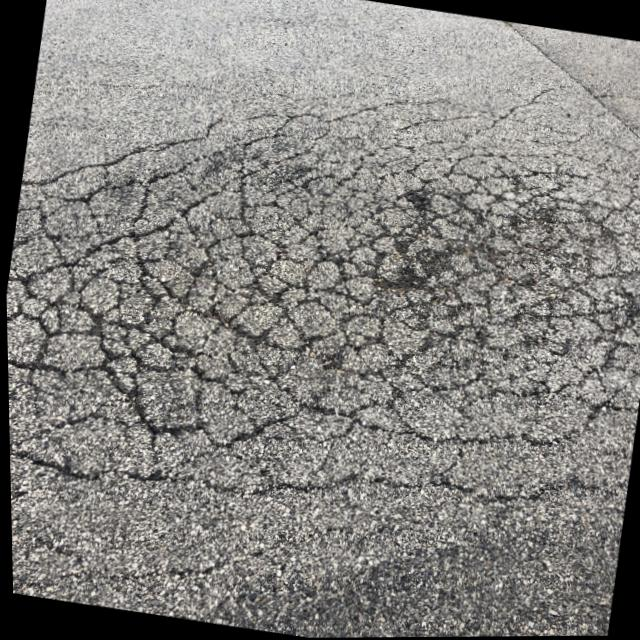Crack: (54, 247, 185, 402), (175, 230, 305, 349), (81, 180, 148, 247), (14, 294, 65, 336), (37, 190, 70, 219)
